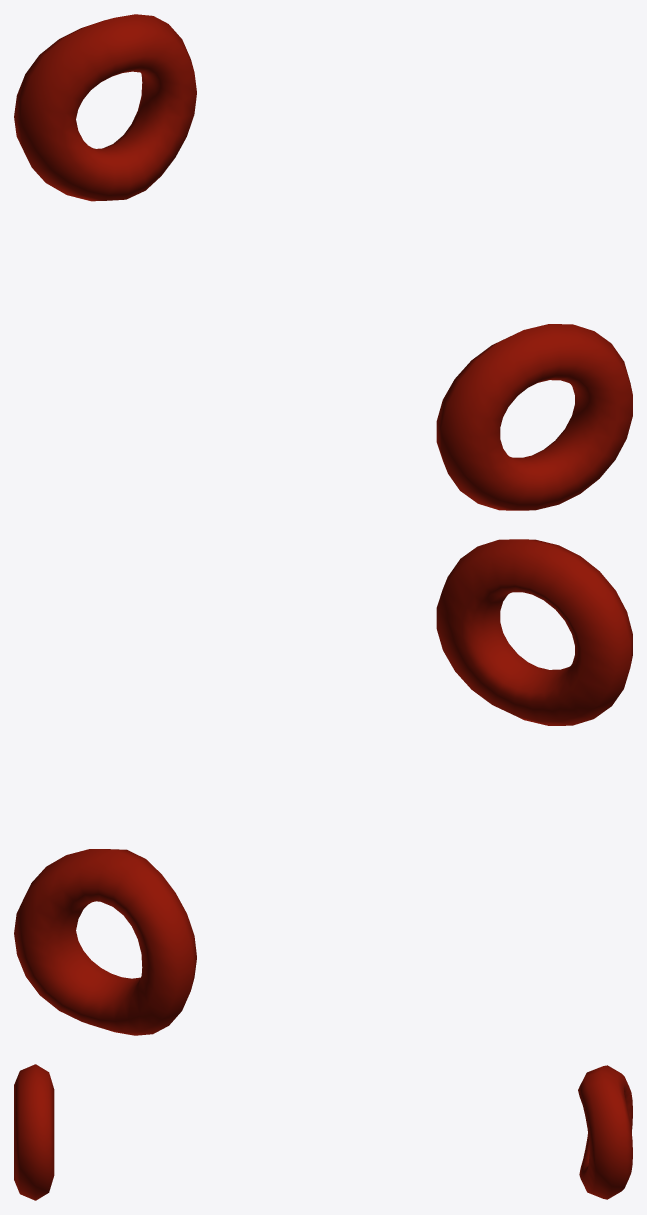
The model's file is Axe Rings.fbx.
3 renders of one model, top to bottom at view 1: azimuth 30°, elevation 25°; view 2: azimuth 150°, elevation 25°; view 3: azimuth 270°, elevation 25°, orthographic. The views are drawn at different scales.
Parts seen in each view (by area): view 1: Axe Ring, Axe Ring.001; view 2: Axe Ring, Axe Ring.001; view 3: Axe Ring.001, Axe Ring.
Boxes of the visible parts, x1,y1,x2,y2 form: Axe Ring: [436, 324, 632, 510]; Axe Ring.001: [14, 14, 196, 201]; Axe Ring: [436, 539, 632, 725]; Axe Ring.001: [14, 849, 196, 1035]; Axe Ring.001: [578, 1065, 632, 1199]; Axe Ring: [14, 1064, 54, 1200].
Size of the model in its own units: 14.42 by 13.29 by 60.99.
